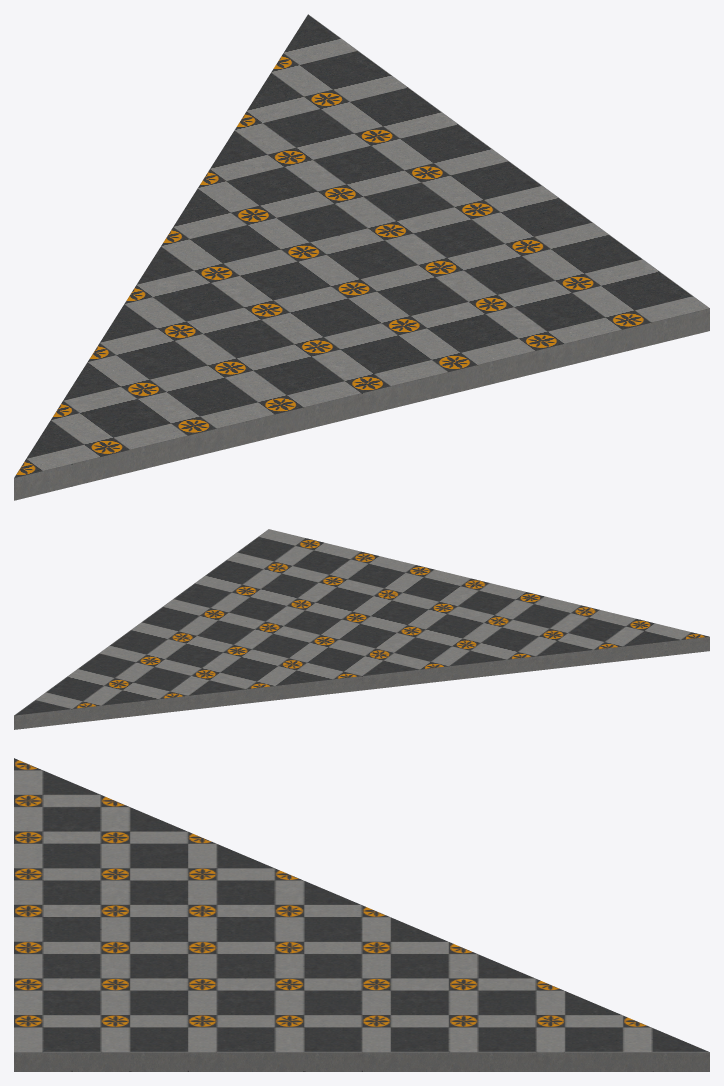
Rendered from SM_FloorTilesDetailHalf.FBX.
3 renders of one model, top to bottom at view 1: azimuth 30°, elevation 25°; view 2: azimuth 150°, elevation 25°; view 3: azimuth 270°, elevation 25°, orthographic. The views are drawn at different scales.
Visible parts, largest first — view 1: SM_FloorTilesDetailHalf; view 2: SM_FloorTilesDetailHalf; view 3: SM_FloorTilesDetailHalf.
Part boxes in pixels (box(x1,y1,x2,y2)): SM_FloorTilesDetailHalf: box(14, 14, 709, 500); SM_FloorTilesDetailHalf: box(14, 529, 709, 729); SM_FloorTilesDetailHalf: box(14, 758, 709, 1071).
Bounding box in the file's own units: 800 × 800 × 25.
